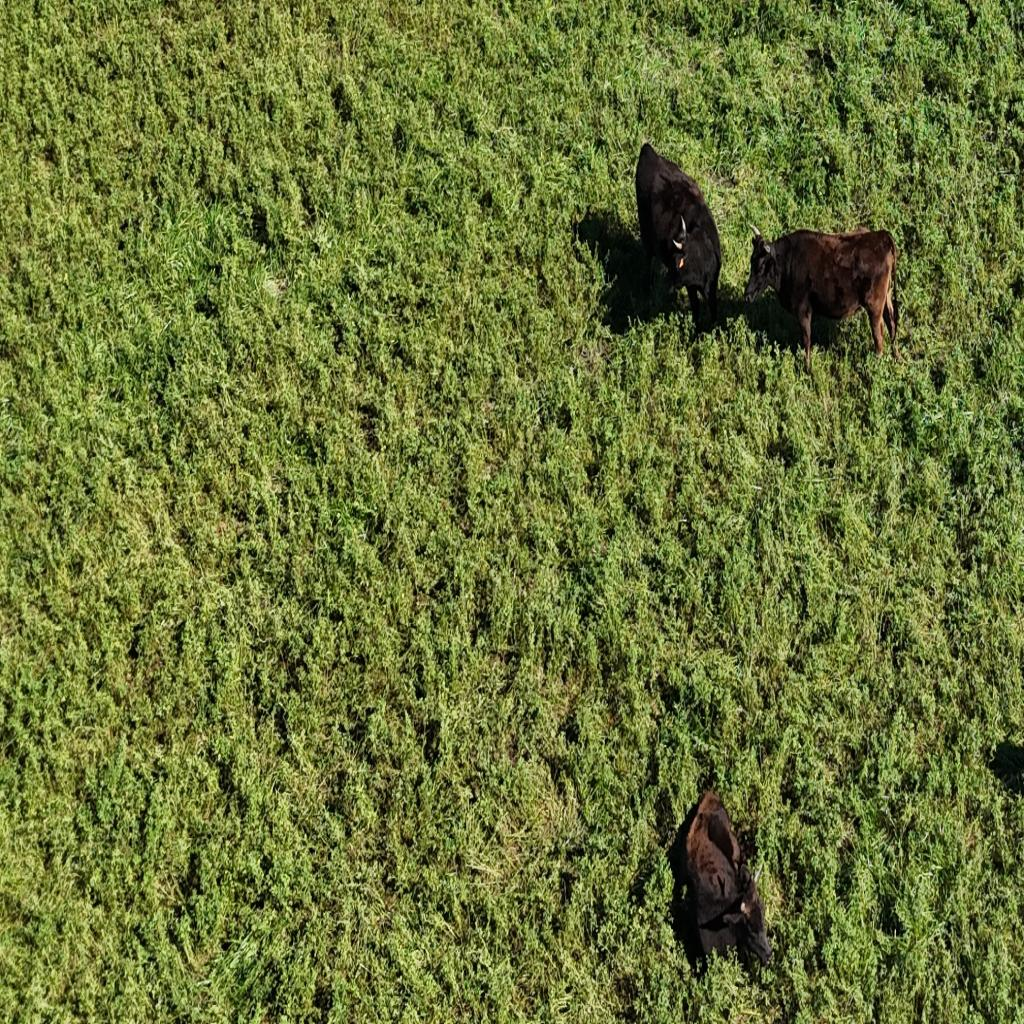cow: (744, 225, 900, 371), (677, 788, 774, 970), (635, 144, 722, 332)
